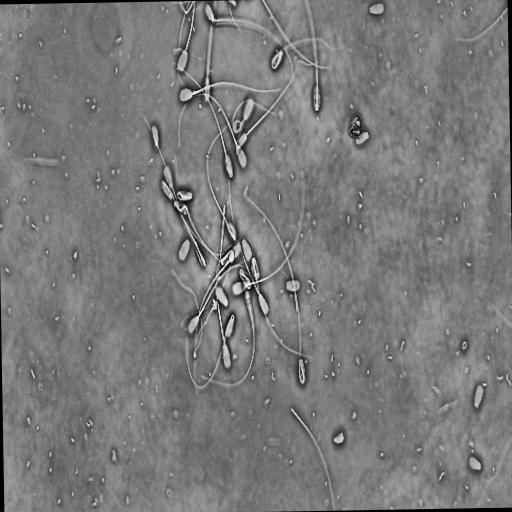coiled-tail: (278, 267, 304, 383), (271, 38, 341, 69), (232, 99, 275, 136), (175, 188, 194, 202), (240, 269, 252, 290), (233, 119, 242, 133)
dirt-particles: (348, 112, 363, 139), (332, 427, 346, 448)
folded-tail: (252, 258, 310, 357), (180, 69, 232, 176), (213, 19, 293, 75), (187, 318, 233, 389), (307, 1, 318, 110)
loose-head: (472, 381, 486, 411), (177, 236, 192, 264), (214, 283, 230, 309), (467, 454, 484, 473), (354, 129, 371, 147), (368, 0, 386, 17), (285, 277, 301, 293), (151, 122, 160, 150)
loose-tail: (288, 401, 337, 510), (260, 0, 330, 70), (452, 5, 508, 47)
normal: (233, 56, 315, 151), (202, 1, 295, 82), (250, 253, 316, 363), (231, 199, 305, 297), (175, 66, 235, 180), (177, 92, 249, 171), (214, 236, 254, 372), (185, 261, 249, 337), (184, 311, 236, 391), (205, 116, 237, 242), (276, 265, 307, 391), (174, 200, 226, 266), (269, 33, 346, 72), (177, 81, 289, 106), (161, 181, 204, 246), (303, 0, 322, 114), (231, 95, 280, 139), (175, 1, 196, 77)
